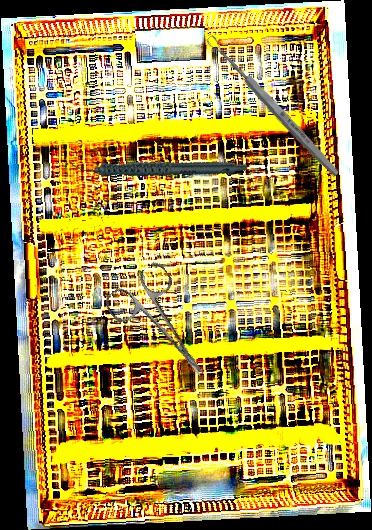Handpiece: (67, 124, 249, 210)
Iris Scissors: (101, 259, 228, 397)
Surgical Spoon: (204, 33, 342, 179)
